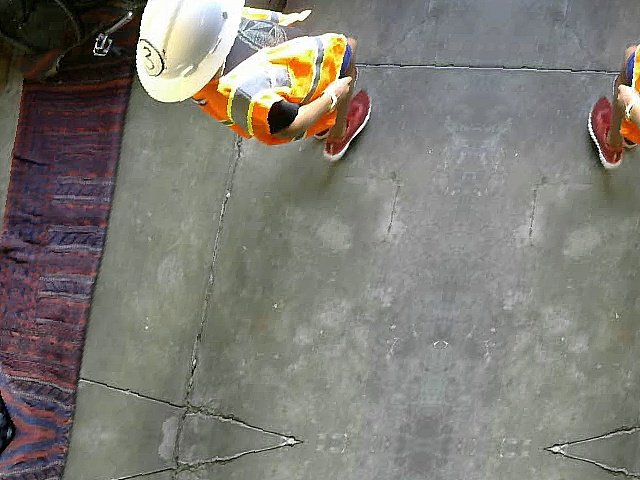three: (130, 37, 166, 77)
